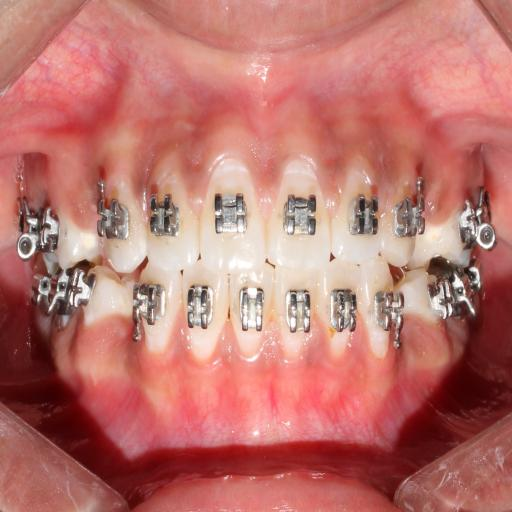correct_brace: (279, 188, 322, 237), (210, 188, 252, 238), (348, 185, 382, 242), (96, 194, 128, 246), (148, 192, 180, 241), (394, 194, 427, 241)
incorrect_brace: (140, 156, 196, 266), (337, 149, 380, 266)
